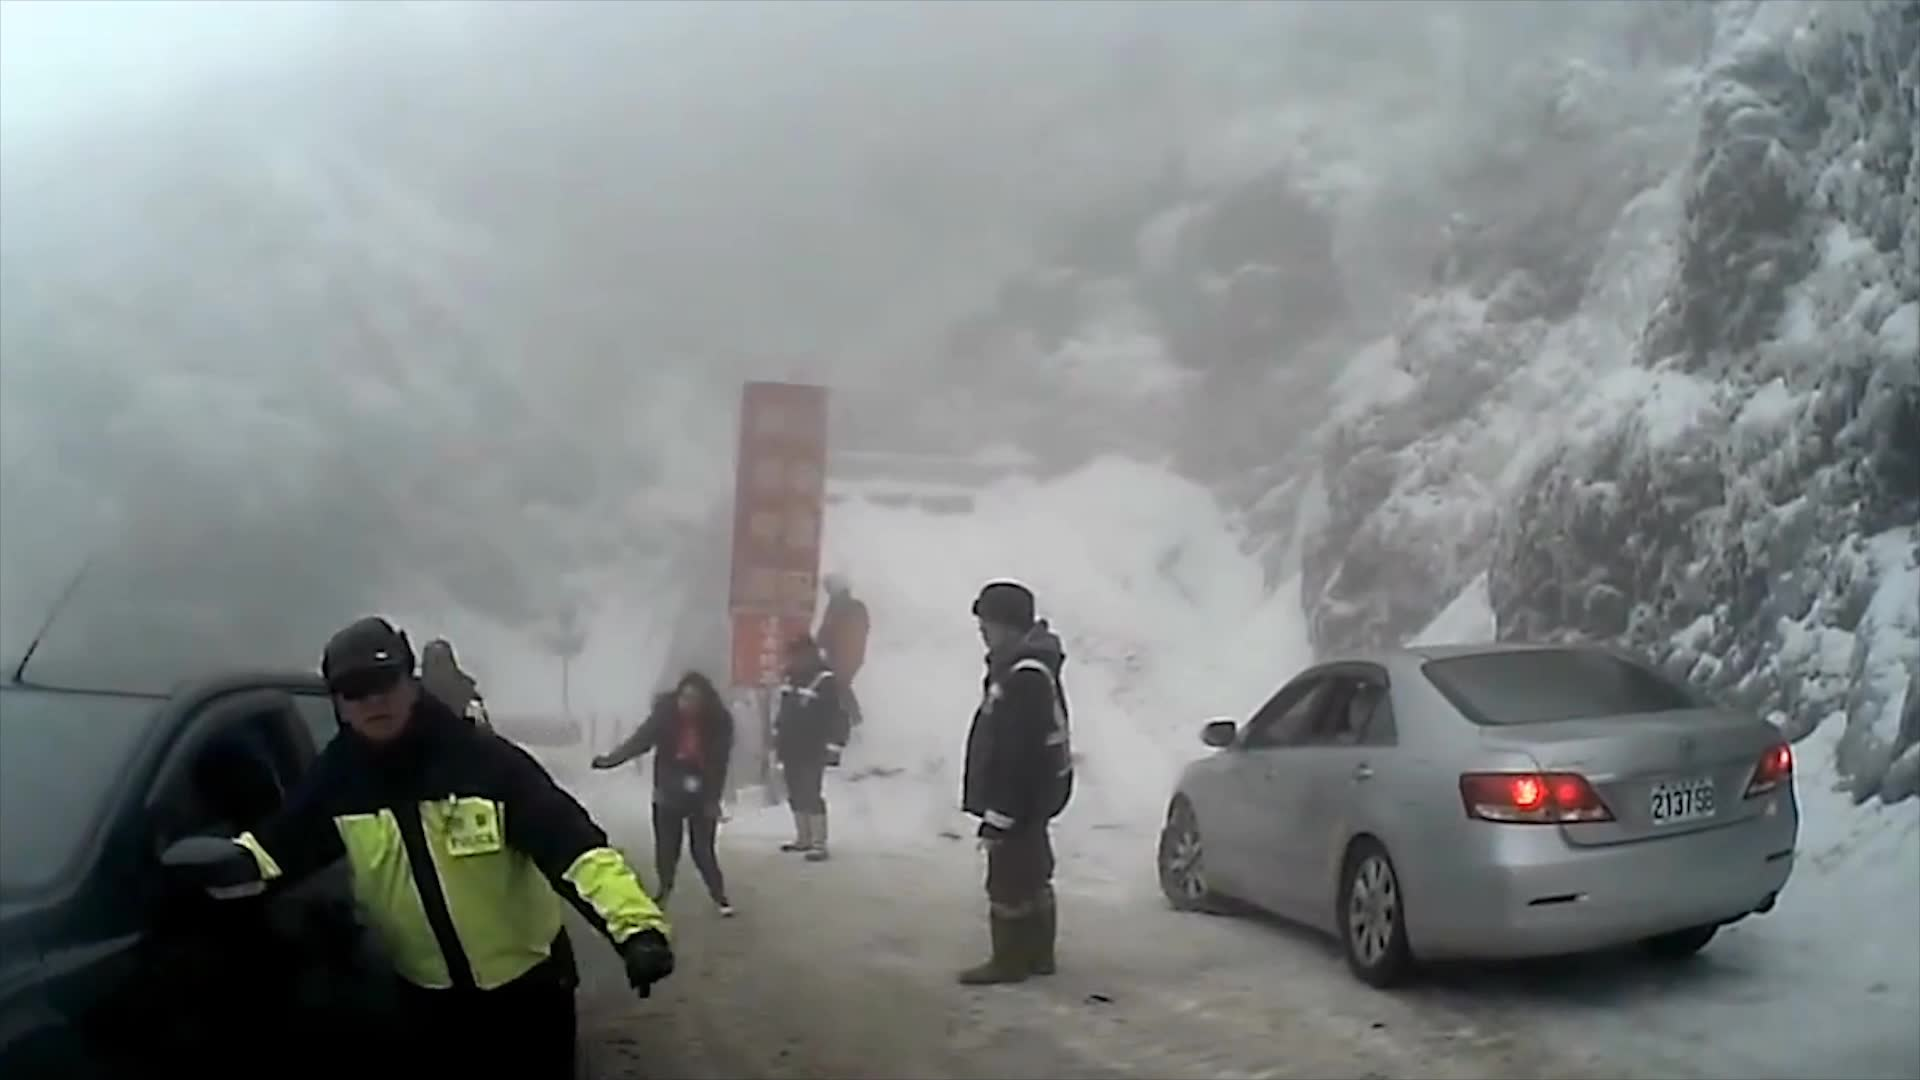pedestrian: (189, 611, 657, 1080), (948, 585, 1079, 985), (594, 671, 738, 914), (392, 643, 513, 927), (772, 640, 852, 864), (819, 569, 878, 753)
vehicle: (1157, 638, 1800, 987), (0, 658, 513, 1079)
